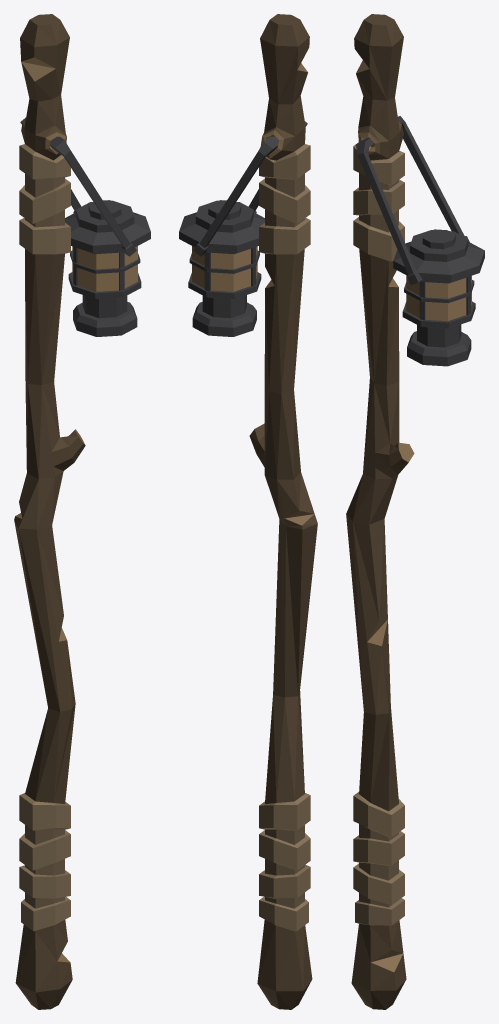
File: SM_Wep_Staff_02.gltf
The picture shows the model from 3 angles, left to right: view 1: azimuth 30°, elevation 25°; view 2: azimuth 150°, elevation 25°; view 3: azimuth 330°, elevation 25°; orthographic projection.
Visible parts, largest first — view 1: SM_Wep_Staff_02; view 2: SM_Wep_Staff_02; view 3: SM_Wep_Staff_02.
Part boxes in pixels (left/top/right/bottom): SM_Wep_Staff_02: left=14, top=14, right=150, bottom=1009; SM_Wep_Staff_02: left=179, top=14, right=317, bottom=1009; SM_Wep_Staff_02: left=346, top=14, right=484, bottom=1009.
Size of the model in its own units: 0.2887 by 2.09 by 0.2013.
Materials: 1 (1 with a texture image).
